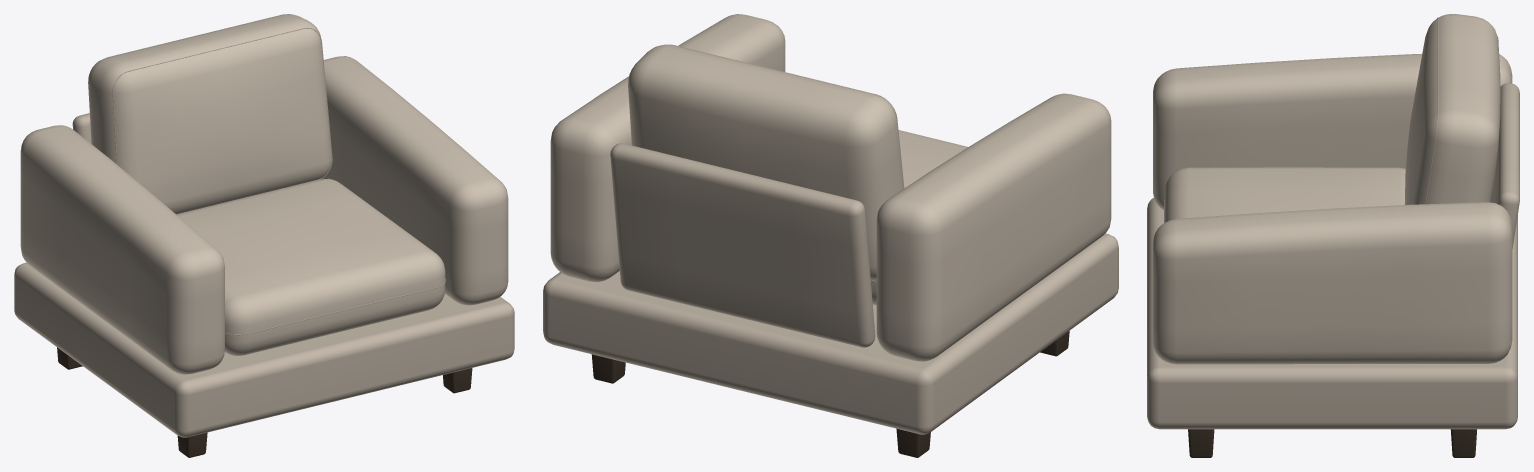
The model's file is armchair.glb.
3 renders of one model, left to right at view 1: azimuth 30°, elevation 25°; view 2: azimuth 150°, elevation 25°; view 3: azimuth 270°, elevation 25°, orthographic. The views are drawn at different scales.
Visible parts, largest first — view 1: EQ_armchair, EQ_armchair_Continuous_Upholstered_Base, EQ_armchair_Armrest_Left, EQ_armchair_Armrest_Right; view 2: EQ_armchair_Continuous_Upholstered_Base, EQ_armchair_Armrest_Left, EQ_armchair_Rear_Support, EQ_armchair, EQ_armchair_Armrest_Right; view 3: EQ_armchair_Armrest_Right, EQ_armchair_Armrest_Left, EQ_armchair, EQ_armchair_Continuous_Upholstered_Base, EQ_armchair_Rear_Support.
Boxes of the visible parts, <box> form: EQ_armchair: <box>57,14,472,457</box>; EQ_armchair_Continuous_Upholstered_Base: <box>14,262,514,437</box>; EQ_armchair_Armrest_Left: <box>20,125,224,374</box>; EQ_armchair_Armrest_Right: <box>321,56,508,305</box>; EQ_armchair_Continuous_Upholstered_Base: <box>543,233,1118,434</box>; EQ_armchair_Armrest_Left: <box>876,93,1111,361</box>; EQ_armchair_Rear_Support: <box>610,143,875,347</box>; EQ_armchair: <box>591,44,1069,457</box>; EQ_armchair_Armrest_Right: <box>550,14,785,282</box>; EQ_armchair_Armrest_Right: <box>1153,202,1512,364</box>; EQ_armchair_Armrest_Left: <box>1153,54,1512,209</box>; EQ_armchair: <box>1164,14,1500,457</box>; EQ_armchair_Continuous_Upholstered_Base: <box>1147,198,1517,429</box>; EQ_armchair_Rear_Support: <box>1490,83,1519,248</box>.
Size of the model in its own units: 1.11 by 0.9156 by 0.9646.
